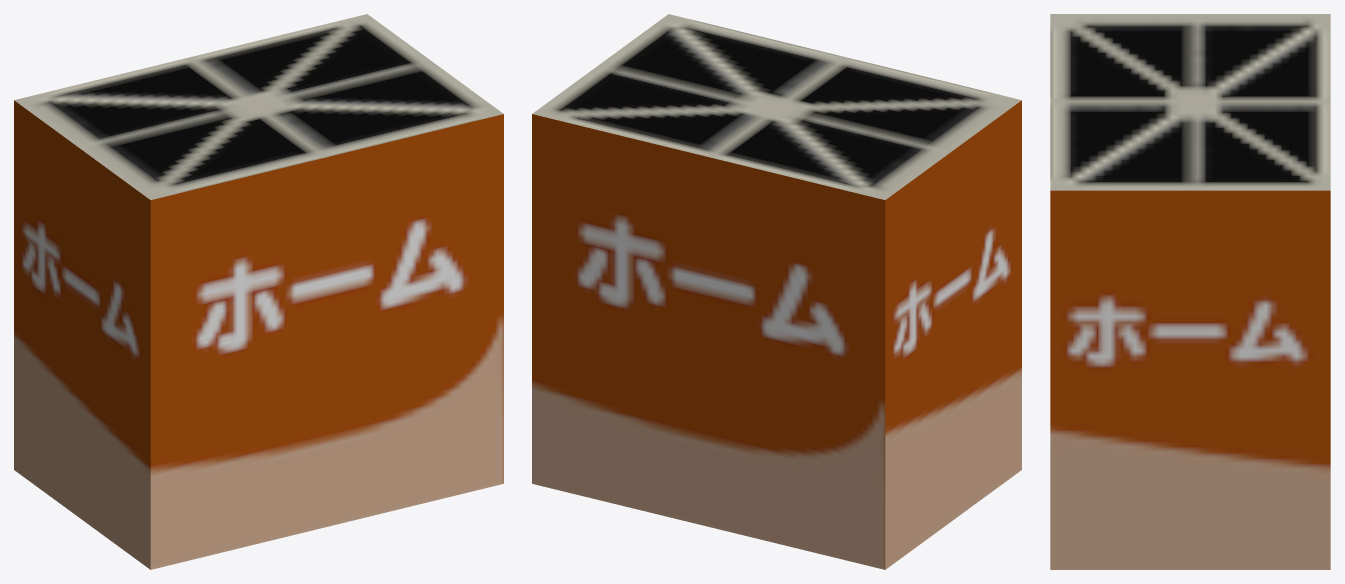
The model's file is Prop_Signbox_T.fbx.
The picture shows the model from 3 angles, left to right: view 1: azimuth 30°, elevation 25°; view 2: azimuth 150°, elevation 25°; view 3: azimuth 270°, elevation 25°; orthographic projection. The views are drawn at different scales.
Visible parts, largest first — view 1: Prop_Signbox_T; view 2: Prop_Signbox_T; view 3: Prop_Signbox_T.
Part boxes in pixels (<box>): Prop_Signbox_T: <box>14,14,503,569</box>; Prop_Signbox_T: <box>532,14,1021,569</box>; Prop_Signbox_T: <box>1050,14,1330,569</box>.
Bounding box in the file's own units: 500 × 500 × 335.
